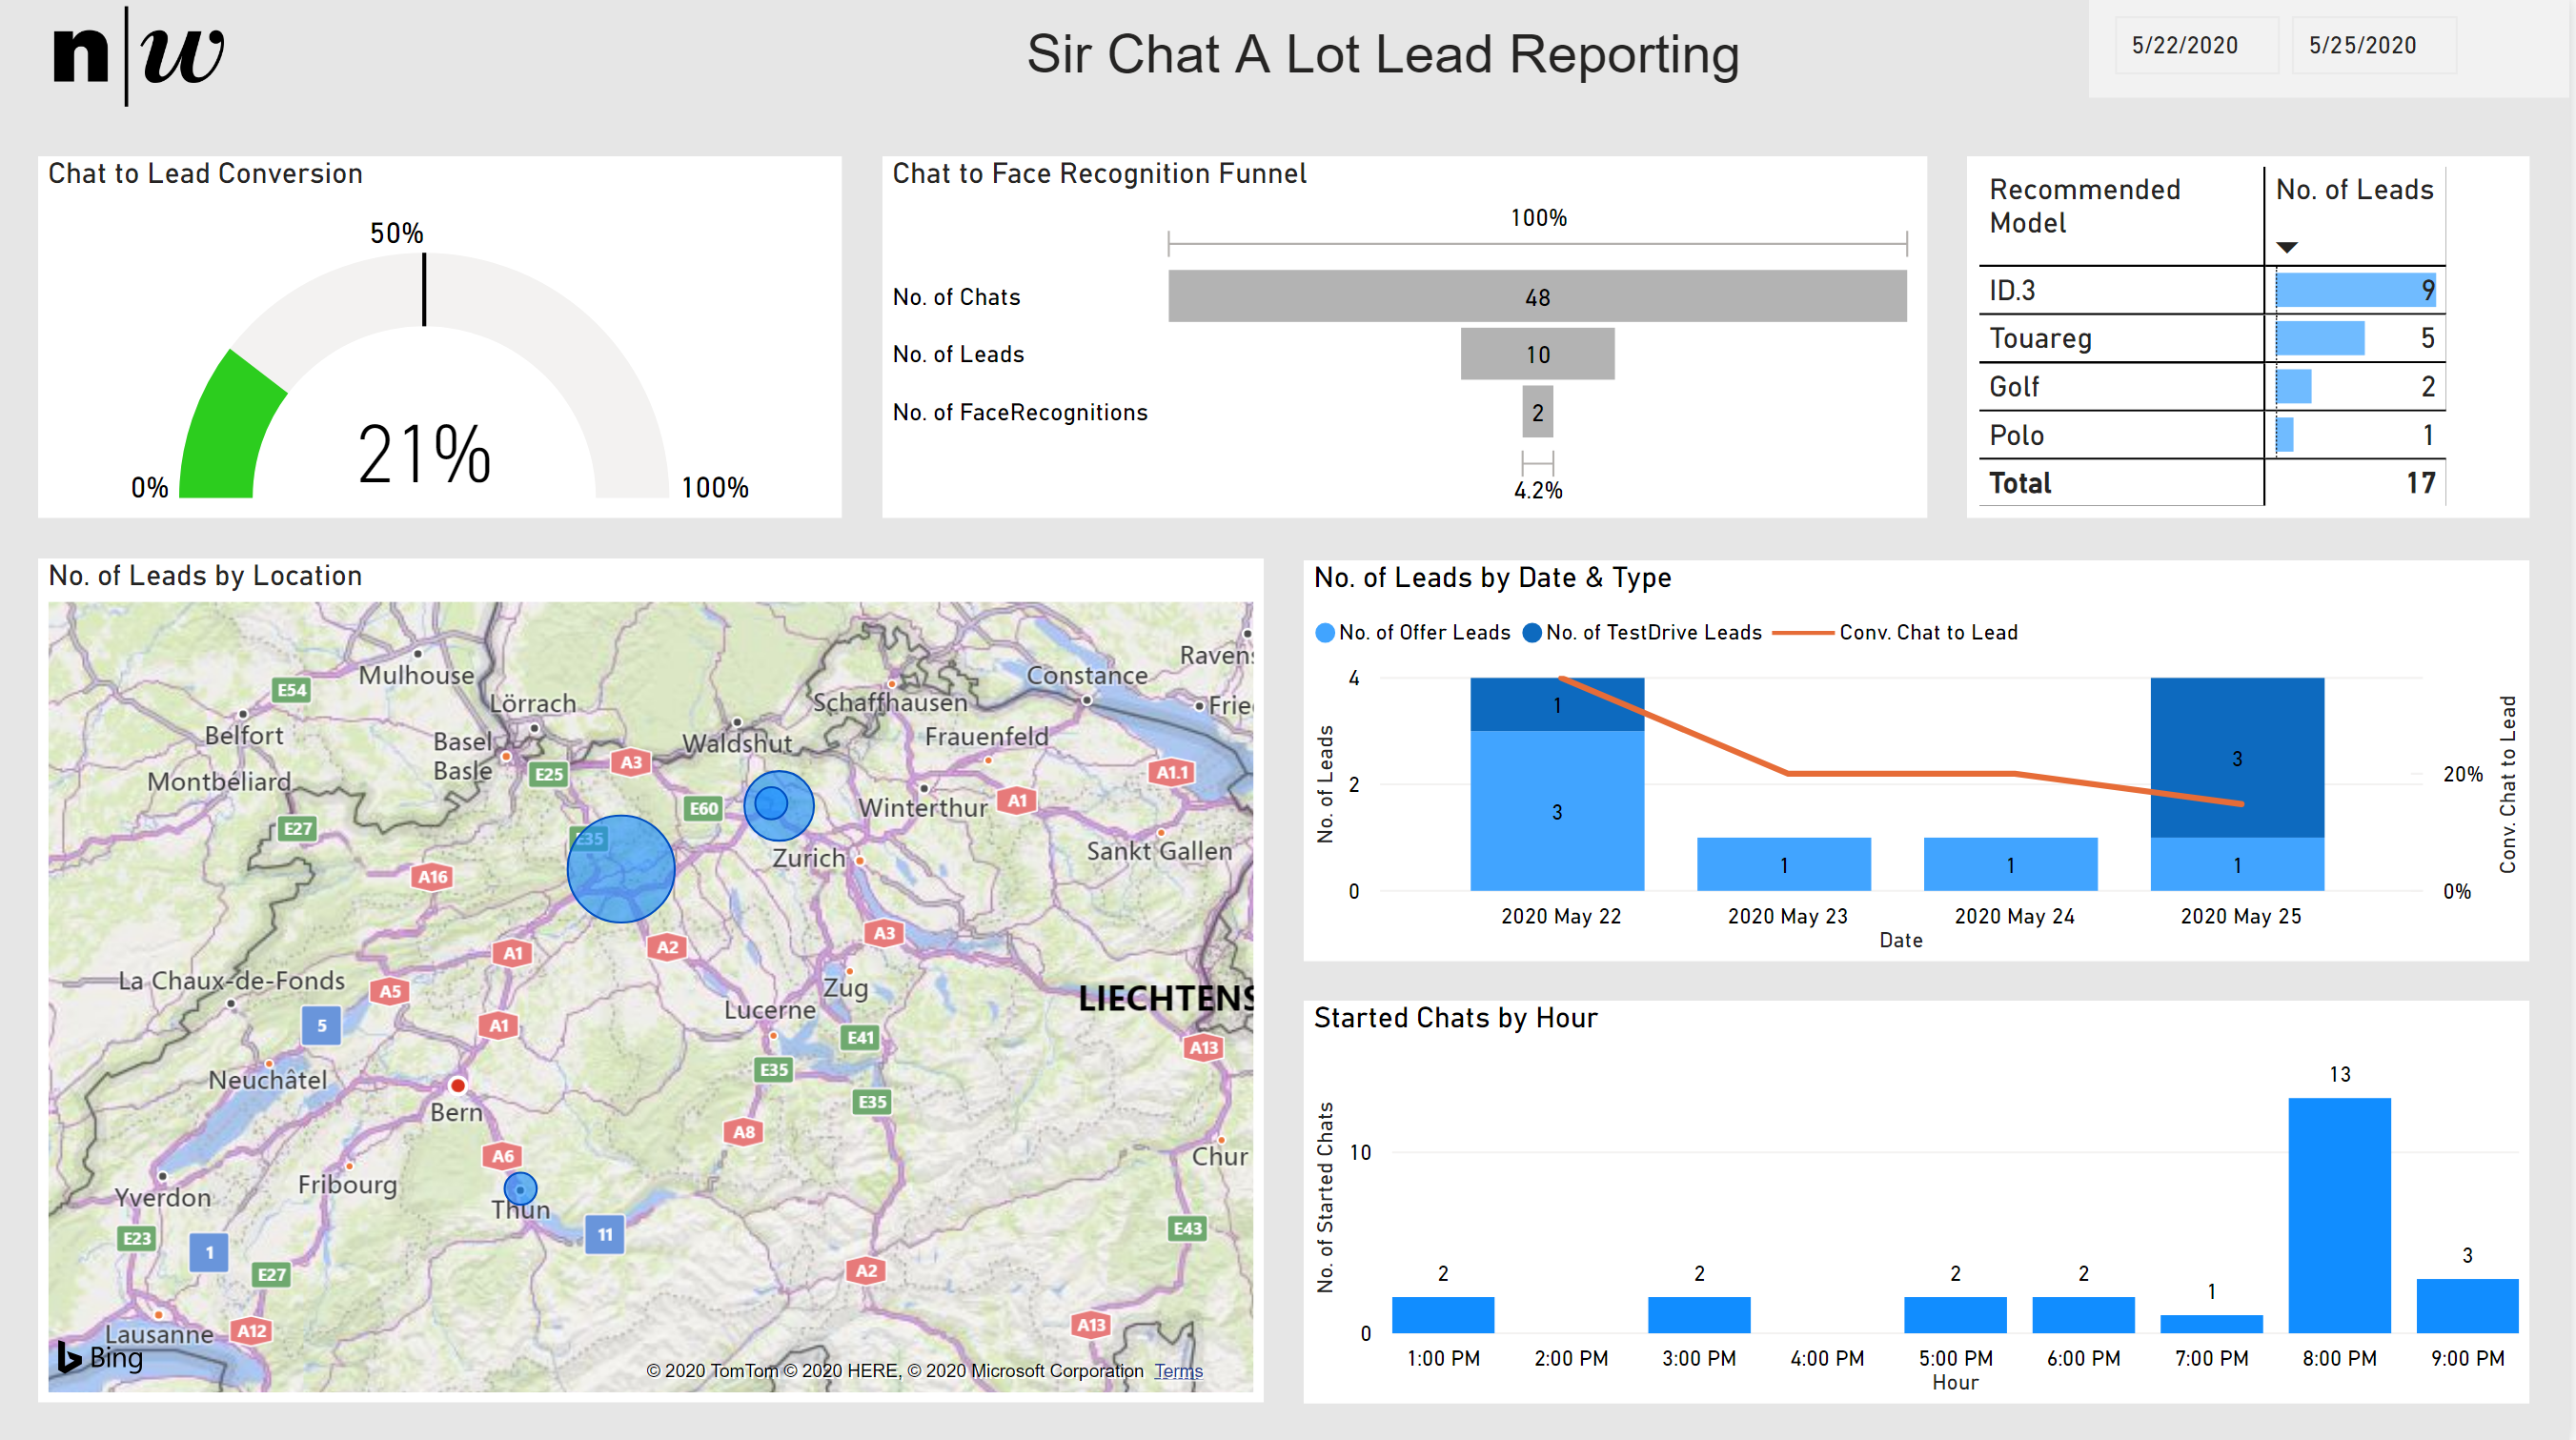

This screenshot's page, from the dashboard's own definition file:
{"tool":"powerbi","page":{"name":"Lead Reporting","canvas":[1280,720],"ordinal":0},"visuals":[{"type":"image","box":[20,0,100,60.2],"z":0},{"type":"textbox","box":[99.8,8.4,1180.2,42.1],"z":1000},{"type":"slicer","fields":{"Values":["DimDatum.Date"]},"box":[1040.7,0,239.3,50.5],"z":2000},{"type":"lineStackedColumnComboChart","title":"No. of Leads by Date & Type","fields":{"Y":["Fact_Measures.No. of Configuration Leads","Fact_Measures.No. of TestDrive Leads"],"Y2":["Fact_Measures.Conv. Chat to Lead"],"Category":["Dim_Date.Date.Variation.Date Hierarchy.Year","Dim_Date.Date.Variation.Date Hierarchy.Month","Dim_Date.Date.Variation.Date Hierarchy.Day"]},"box":[650,280.5,610.1,199.4],"z":3000},{"type":"gauge","title":"Chat to Lead Conversion","fields":{"Y":["Fact_Measures.Conv. Chat to Inquiry"],"TargetValue":["Fact_Measures.Conv. Target"]},"box":[20.3,80,400,180],"z":4000},{"type":"map","title":"No. of Leads by Location","fields":{"Y":["Dim_Geo.Latitude"],"X":["Dim_Geo.Longitude"],"Size":["Fact_Measures.No. of Leads"]},"box":[19.9,280,610,420],"z":5000},{"type":"tableEx","fields":{"Values":["Fact_ScoringCalc.Recommendation","Fact_ScoringCalc.ID"]},"box":[980,80,280,180],"z":6000},{"type":"funnel","title":"Chat to Face Recognition Funnel","fields":{"Y":["Fact_Measures.No. of Chats","Fact_Measures.No. of Inquiries","Fact_FaceRecognition.No. of FaceRecognitions"]},"box":[440,79.8,520,180],"z":7000},{"type":"clusteredColumnChart","title":"Started Chats by Hour","fields":{"Category":["Fact_ChatStart.Hour"],"Y":["Count(Fact_ChatStart.SessionID)"]},"box":[650,499.8,610.1,200.7],"z":8000}]}

Visuals, with their boxes in screenshot pixels (x1, y1, x2, y2), scaled from the page's 1280x720 canvas onto the 2576x1440 screenshot:
image: x1=40, y1=0, x2=241, y2=120
textbox: x1=201, y1=17, x2=2575, y2=101
slicer - DimDatum.Date: x1=2095, y1=0, x2=2575, y2=101
"No. of Leads by Date & Type" lineStackedColumnComboChart: x1=1308, y1=561, x2=2536, y2=960
"Chat to Lead Conversion" gauge: x1=41, y1=160, x2=846, y2=520
"No. of Leads by Location" map: x1=40, y1=560, x2=1268, y2=1400
tableEx - Fact_ScoringCalc.Recommendation x Fact_ScoringCalc.ID: x1=1972, y1=160, x2=2536, y2=520
"Chat to Face Recognition Funnel" funnel: x1=885, y1=159, x2=1932, y2=519
"Started Chats by Hour" clusteredColumnChart: x1=1308, y1=1000, x2=2536, y2=1401
